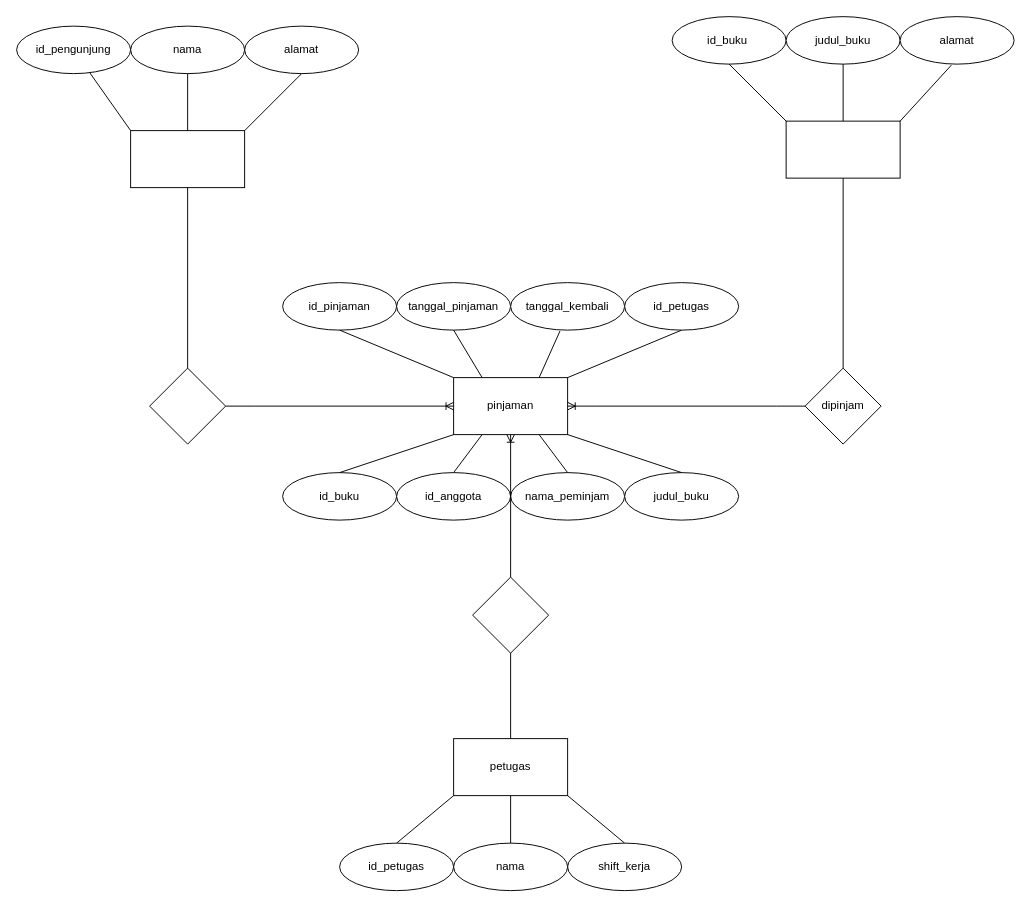
Image size: 1031x907. Some labels were removed from this diagram. The box of each missing label's shape, as (x1, y1, x2, y2) in pixels:
buku: (785, 120, 900, 178)
melakukan: (149, 367, 226, 444)
melayani: (472, 576, 549, 653)
pengunjung: (130, 130, 245, 188)
